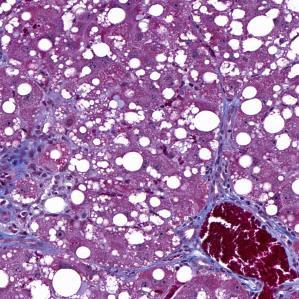fibrosis: (0, 218, 74, 264), (164, 218, 214, 275), (0, 136, 54, 184), (207, 130, 239, 208)
